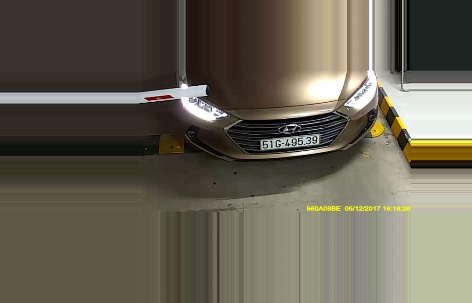plate: (259, 133, 318, 151)
